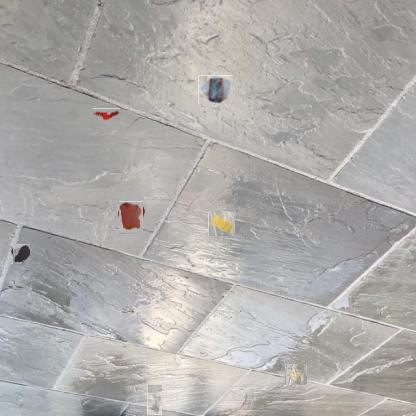dirty: (200, 74, 232, 105), (209, 212, 235, 237), (147, 385, 162, 415), (286, 364, 306, 385), (92, 108, 120, 121)
liquid: (118, 203, 145, 229), (11, 245, 31, 265)
